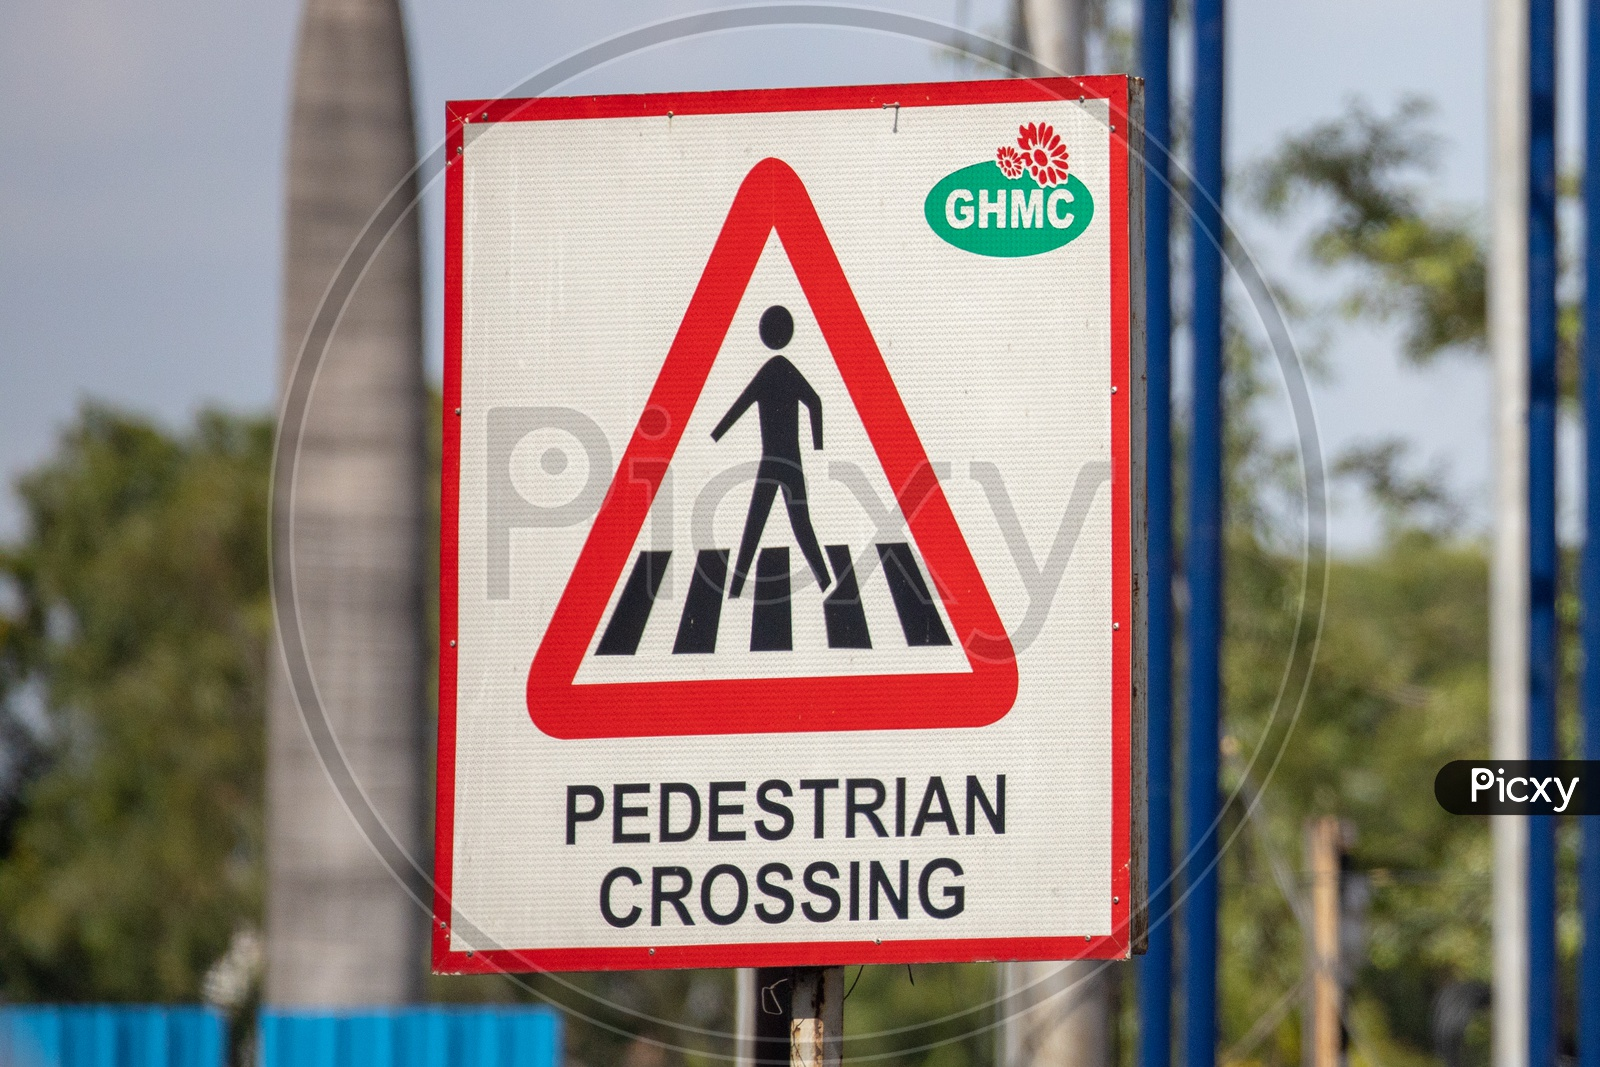pedestrian: (545, 159, 1018, 741)
